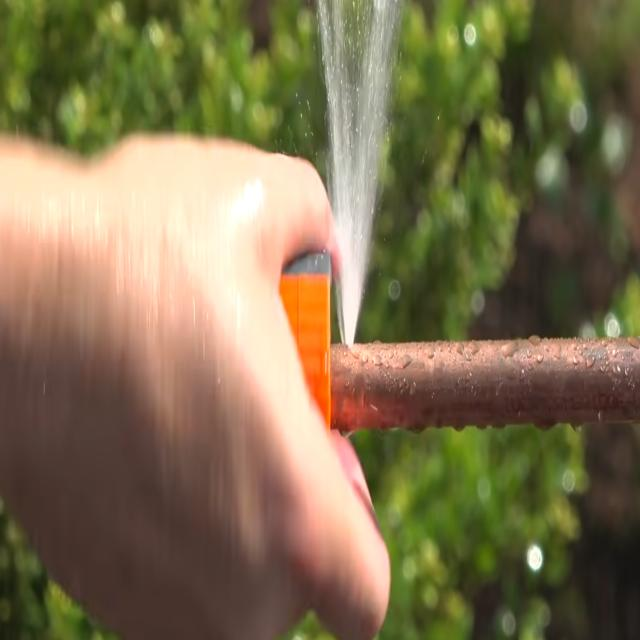leak: (318, 0, 400, 346)
